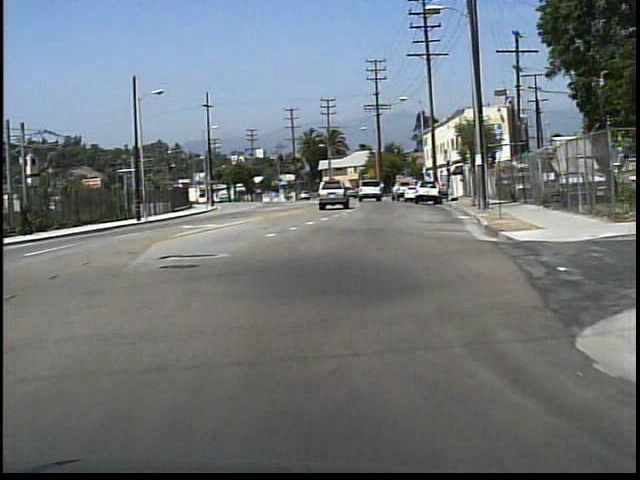person: (21, 200, 39, 239)
